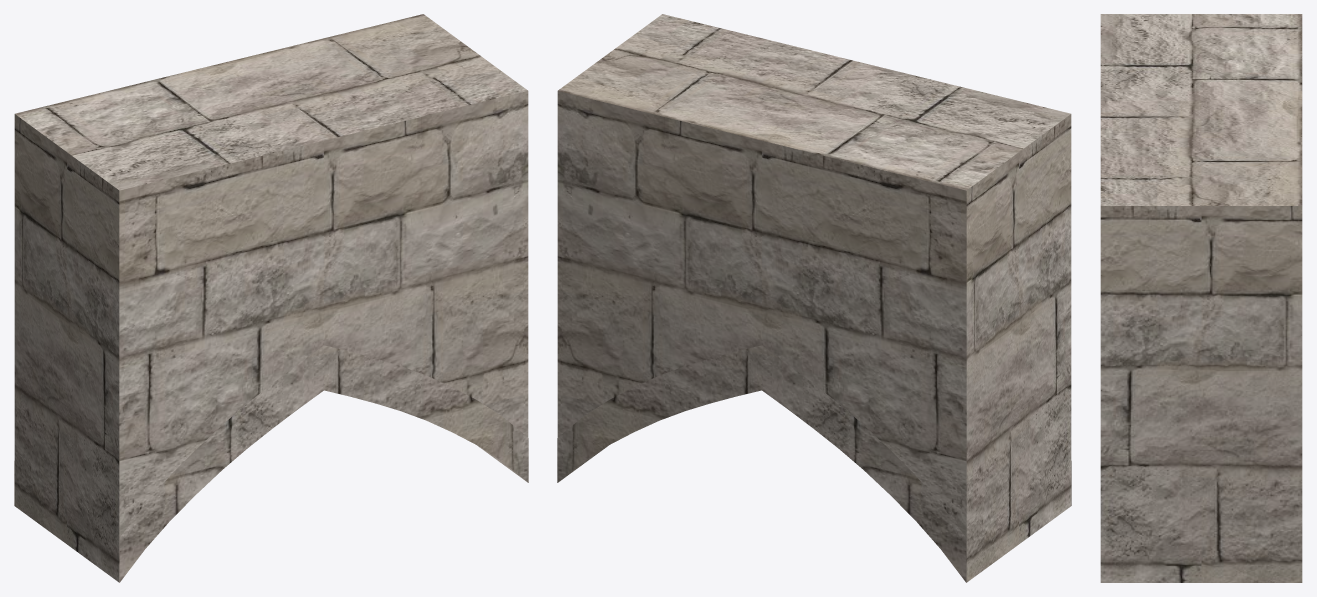
The model's file is arched_room_lintel.glb.
3 renders of one model, left to right at view 1: azimuth 30°, elevation 25°; view 2: azimuth 150°, elevation 25°; view 3: azimuth 270°, elevation 25°, orthographic. The views are drawn at different scales.
Parts seen in each view (by area): view 1: Arched masonry head and deep reveal, Pointed cut-stone course; view 2: Arched masonry head and deep reveal, Pointed cut-stone course; view 3: Arched masonry head and deep reveal.
Part boxes in pixels (x1=…): Arched masonry head and deep reveal: x1=14, y1=14, x2=528, y2=582; Pointed cut-stone course: x1=14, y1=345, x2=528, y2=582; Arched masonry head and deep reveal: x1=557, y1=14, x2=1071, y2=582; Pointed cut-stone course: x1=557, y1=345, x2=1071, y2=582; Arched masonry head and deep reveal: x1=1100, y1=14, x2=1302, y2=582.
Size of the model in its own units: 1.8 by 1.65 by 0.802.
1 material, 1 textured.
